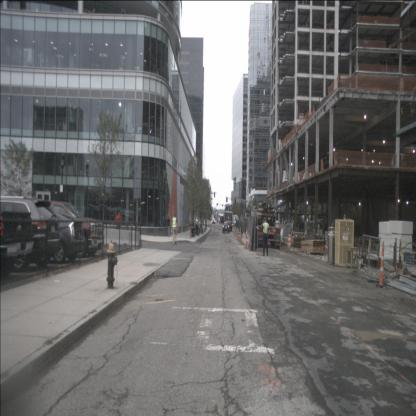human-pedestrian-adult: (114, 209, 122, 243), (167, 215, 170, 237)
movable_object-barrier: (102, 228, 140, 247)
movable_object-trafficcone: (377, 242, 386, 288), (244, 227, 248, 249), (246, 228, 250, 249), (288, 232, 292, 249), (238, 227, 242, 243), (237, 227, 240, 242)
vehicle-bus-rigid: (224, 211, 233, 231)
vehicle-car: (34, 201, 104, 258), (6, 198, 61, 267), (0, 195, 48, 271), (26, 211, 85, 264), (0, 201, 34, 275), (222, 223, 230, 234), (211, 217, 216, 224)
